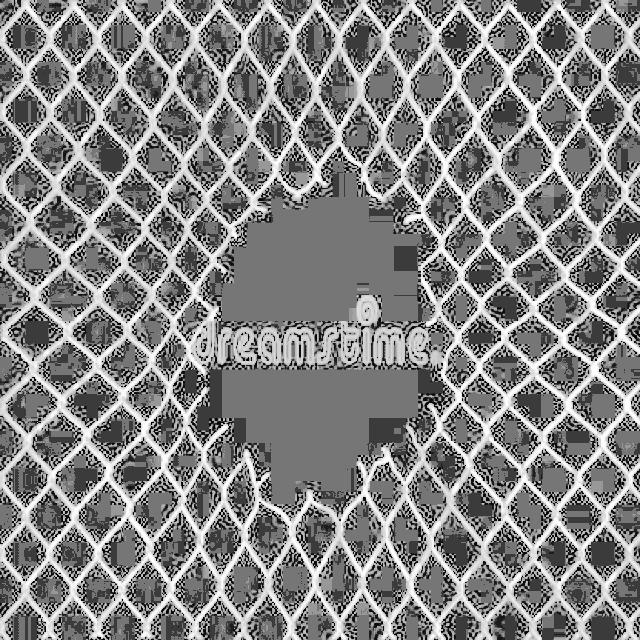anomaly-fence: (145, 100, 518, 532)
